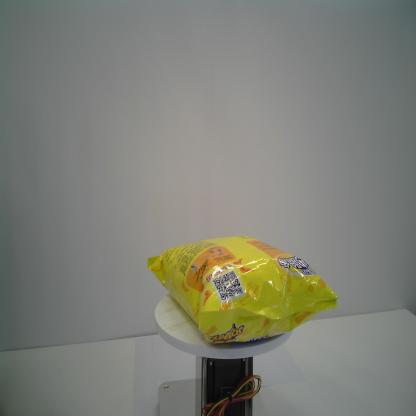Puffed Food: (146, 230, 337, 348)
